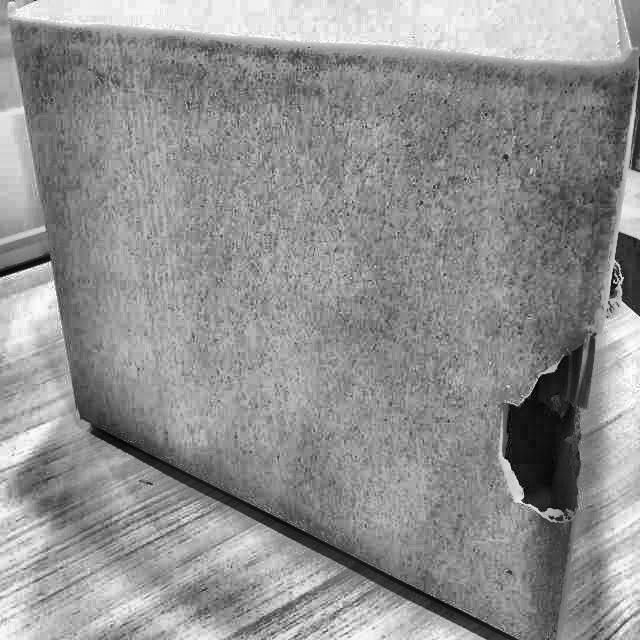box: (0, 0, 639, 639)
hole: (490, 298, 606, 542)
